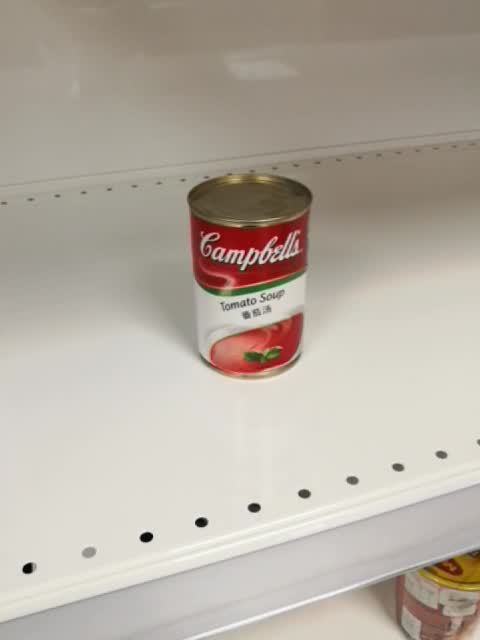tomatosoup: (185, 171, 316, 380)
